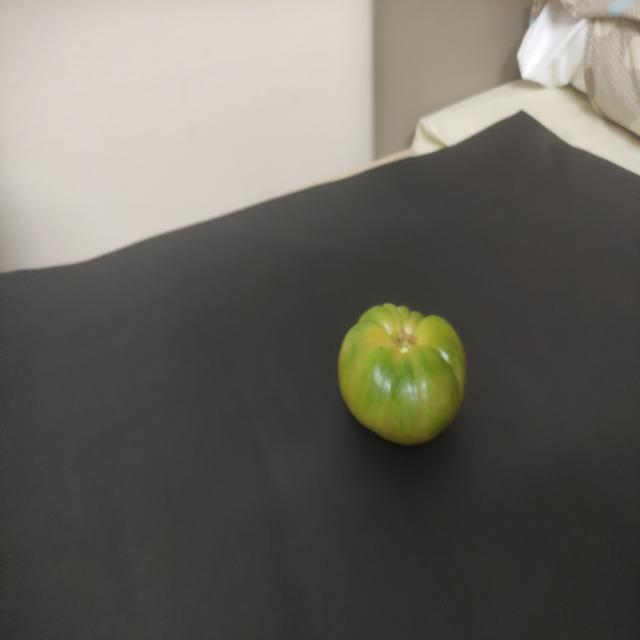unripe tomato: (324, 291, 501, 474)
